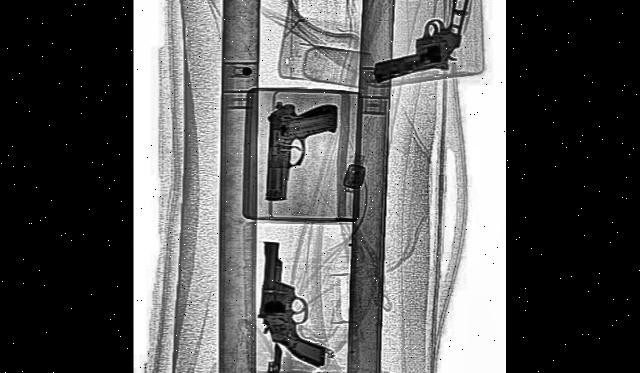Gun: (247, 232, 336, 371), (370, 0, 472, 81), (266, 103, 338, 200)
